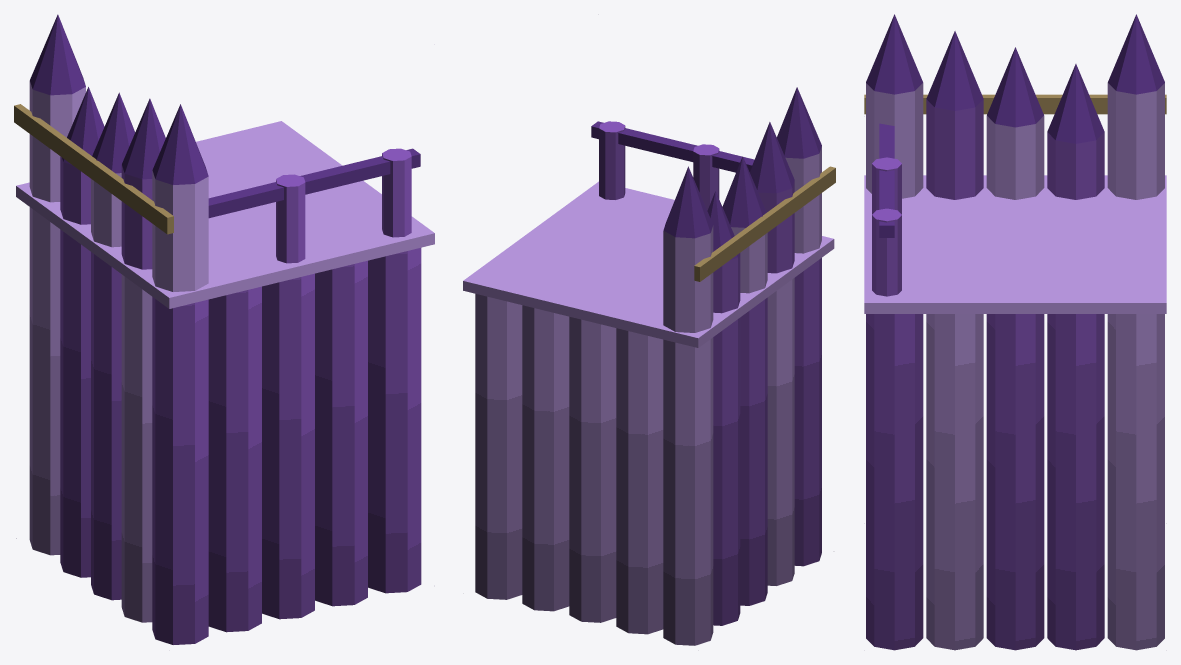
File: perimeter_wall_crystal_f3.glb
The picture shows the model from 3 angles, left to right: view 1: azimuth 30°, elevation 25°; view 2: azimuth 150°, elevation 25°; view 3: azimuth 270°, elevation 25°; orthographic projection. The views are drawn at different scales.
Bounding box in the file's own units: 2.01 × 3.9 × 2.
Materials: 1 (1 with a texture image).
